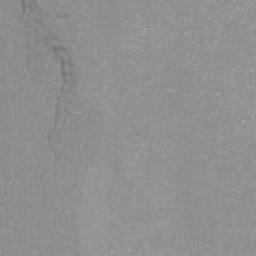Water spot: (18, 0, 108, 189)
